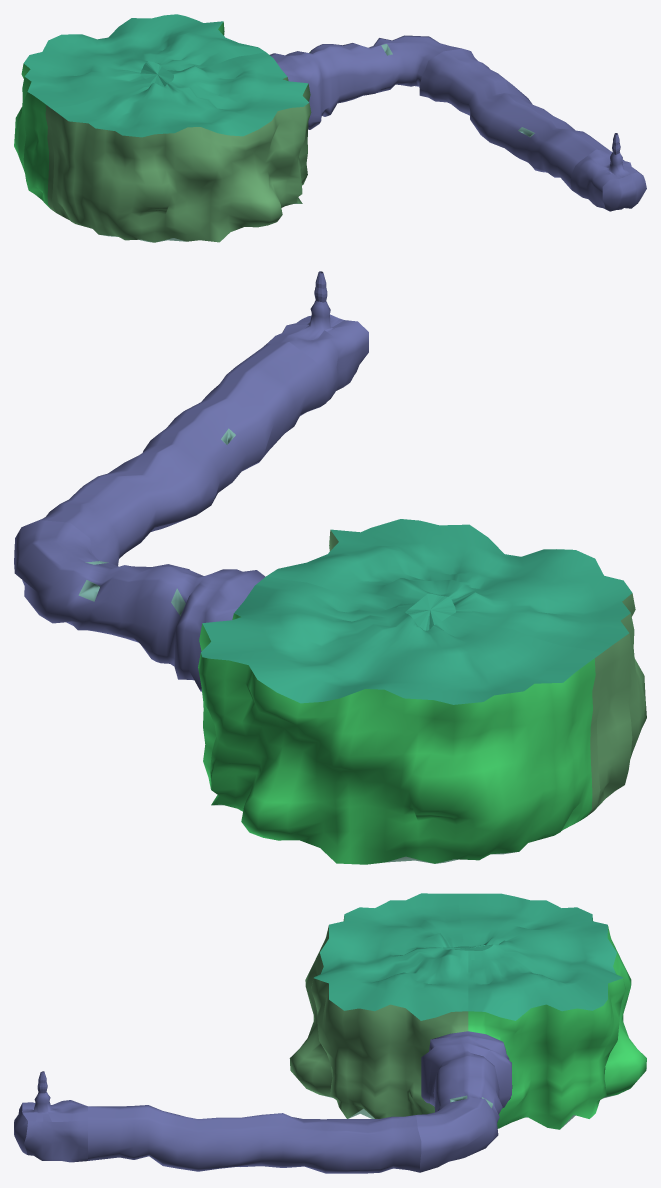
File: UpdatedCave_.fbx
3 renders of one model, top to bottom at view 1: azimuth 30°, elevation 25°; view 2: azimuth 150°, elevation 25°; view 3: azimuth 270°, elevation 25°, orthographic. The views are drawn at different scales.
Parts seen in each view (by area): view 1: pCube2; view 2: pCube2; view 3: pCube2.
Boxes of the visible parts, x1,y1,x2,y2 form: pCube2: (14,14,646,242); pCube2: (14,271,646,864); pCube2: (14,893,646,1173).
Bounding box in the file's own units: 100 × 31.79 × 122.
